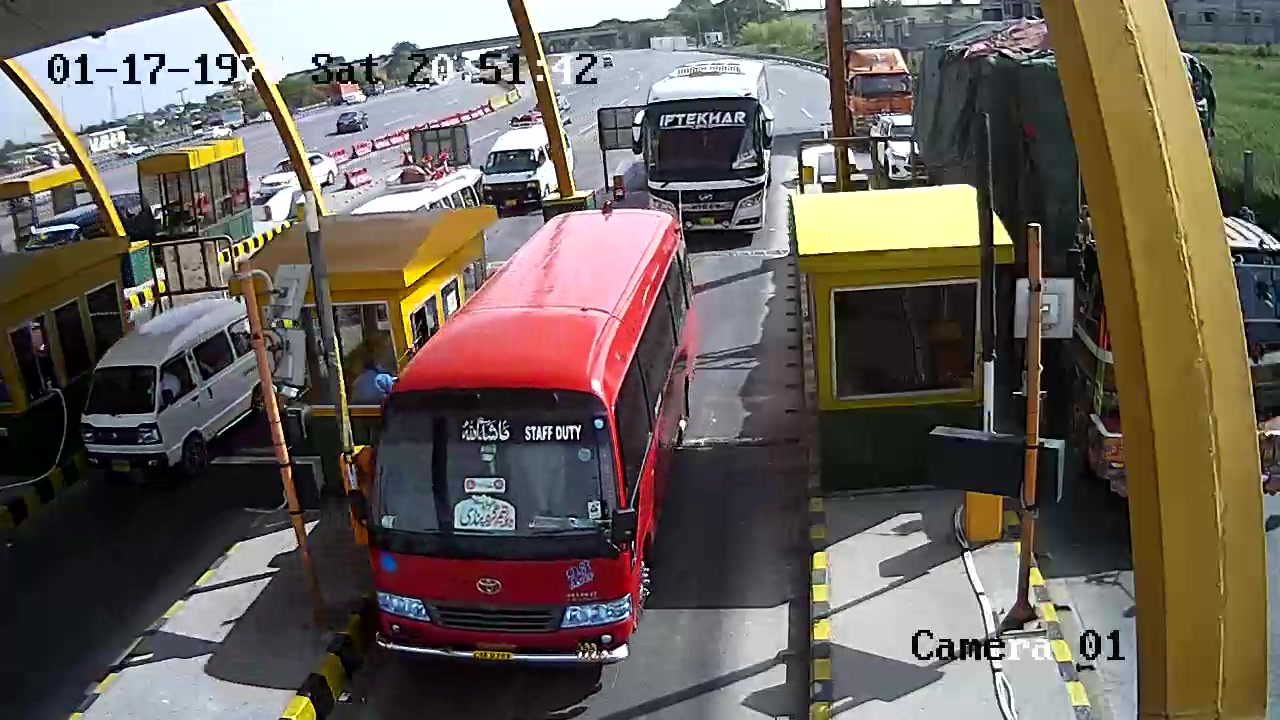F3: (359, 200, 699, 691)
